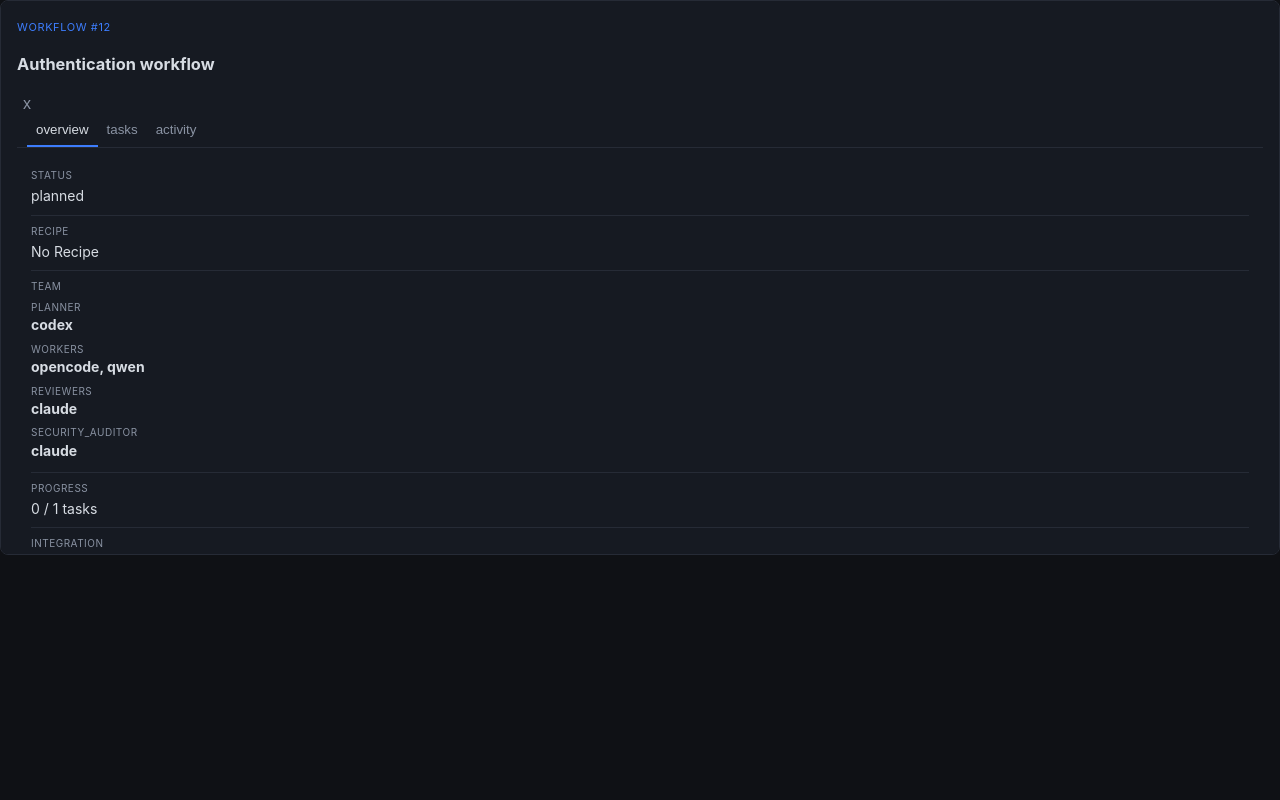
Test case: Workflow inspector › labels every task with its role operation in the tasks tab
Step 1. Click the tab "tasks" → click(122, 131), box [98,114,147,147]
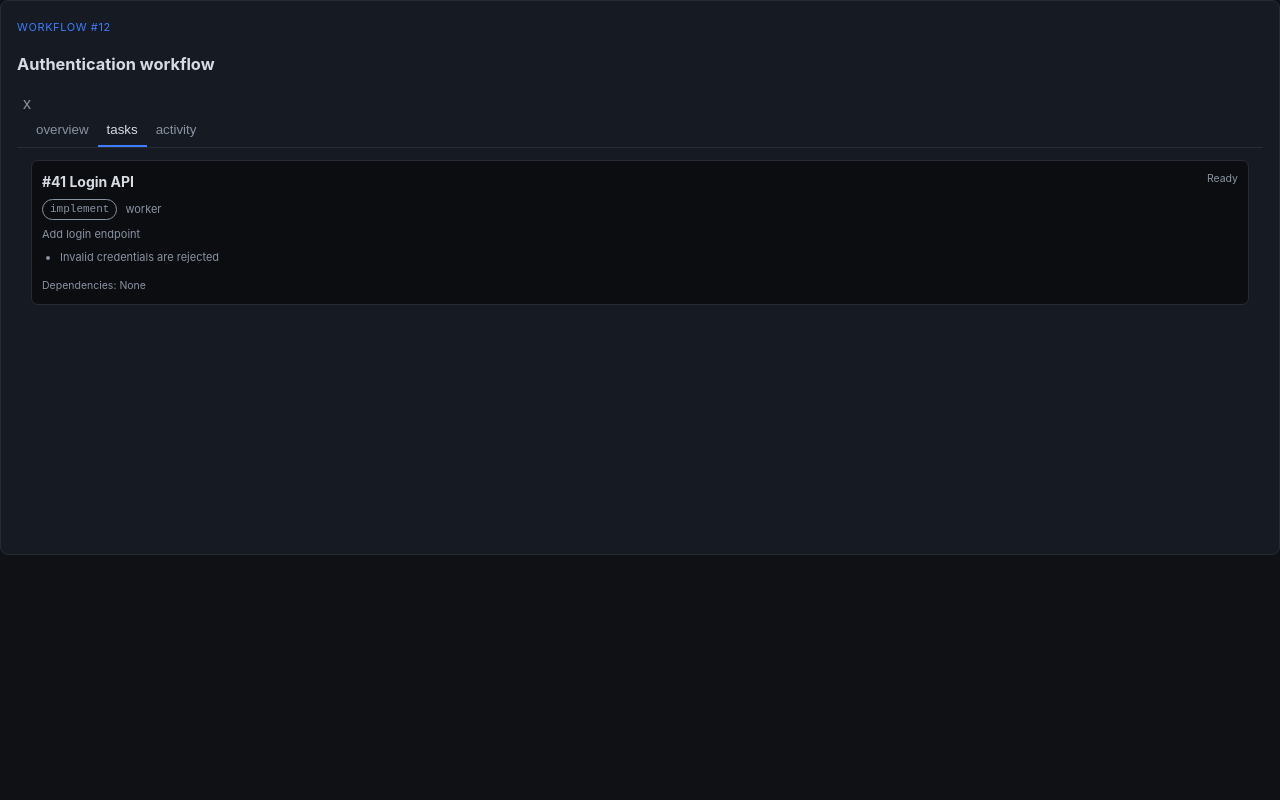
Expected: the text "worker" is shown, [125,202,162,218]
Expected: the text "implement" is shown, [42,199,117,220]
